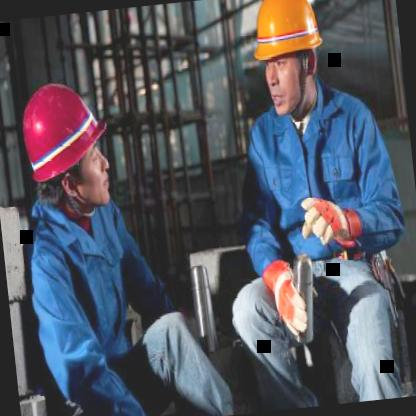helmet: (6, 60, 121, 226), (242, 0, 337, 121)
